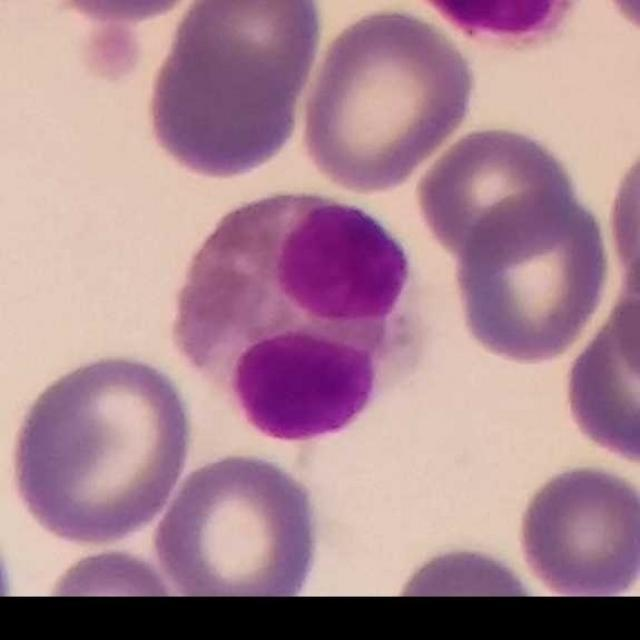eosino: (171, 189, 432, 444)
